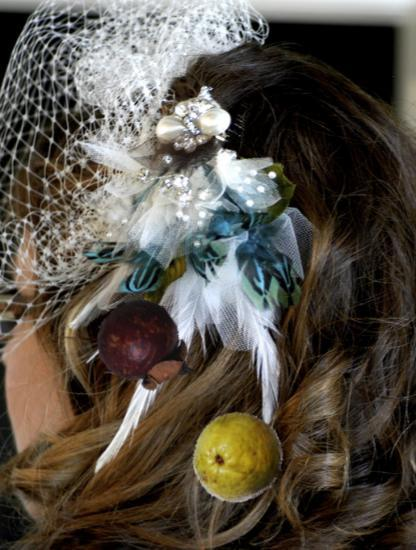Guava: (191, 412, 285, 506)
Mangostan: (92, 297, 195, 400)
